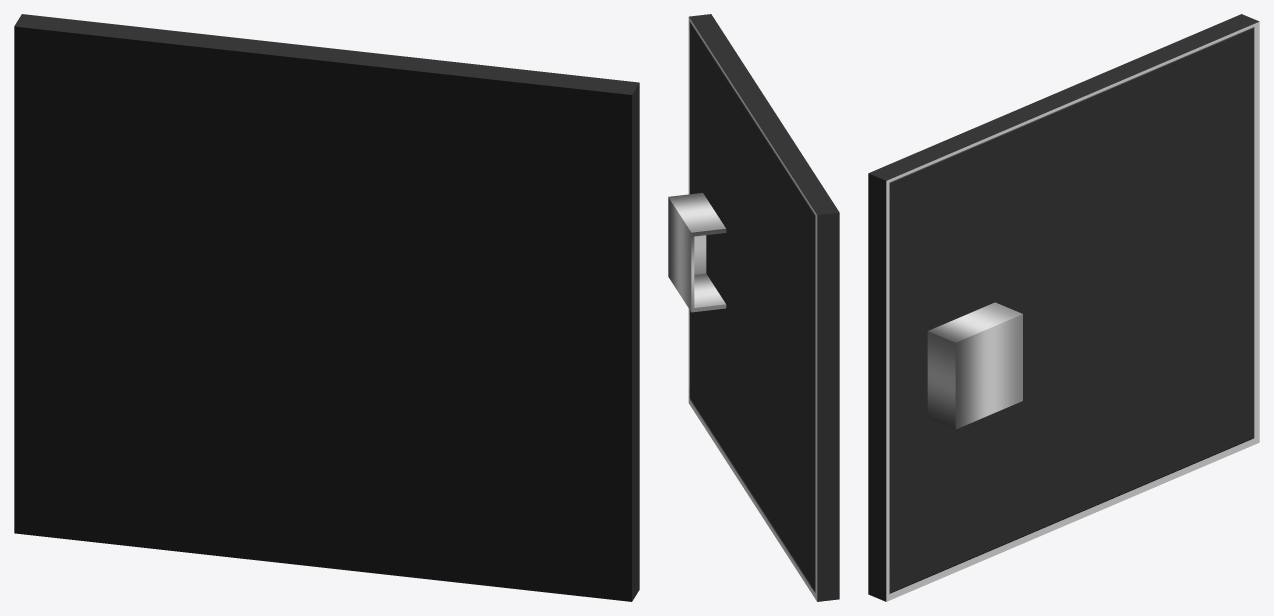
Rendered from SafeDoor.fbx.
3 views of the same model, side by side, from view 1: azimuth 30°, elevation 25°; view 2: azimuth 150°, elevation 25°; view 3: azimuth 270°, elevation 25° (orthographic). The views are drawn at different scales.
Parts seen in each view (by area): view 1: SafeDoor; view 2: SafeDoor; view 3: SafeDoor.
Boxes of the visible parts, x1,y1,x2,y2 form: SafeDoor: (14,14,639,601); SafeDoor: (668,14,839,601); SafeDoor: (868,14,1259,601).
Size of the model in its own units: 1.17 by 1.38 by 1.16.
